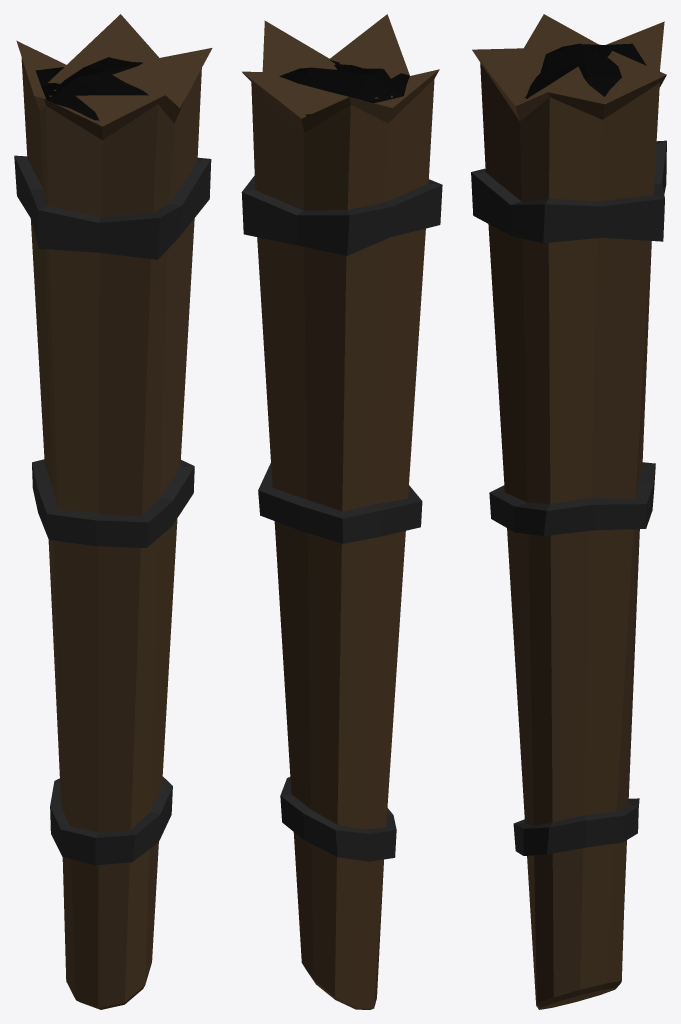
The model's file is TOUCRH.fbx.
3 views of the same model, side by side, from view 1: azimuth 30°, elevation 25°; view 2: azimuth 150°, elevation 25°; view 3: azimuth 270°, elevation 25° (orthographic). The views are drawn at different scales.
Visible parts, largest first — view 1: Cylinder; view 2: Cylinder; view 3: Cylinder.
Part boxes in pixels (box(x1,y1,x2,y2)): Cylinder: box(14, 14, 212, 1009); Cylinder: box(241, 14, 442, 1009); Cylinder: box(471, 14, 666, 1009).
Size of the model in its own units: 52.08 by 267 by 48.79.
